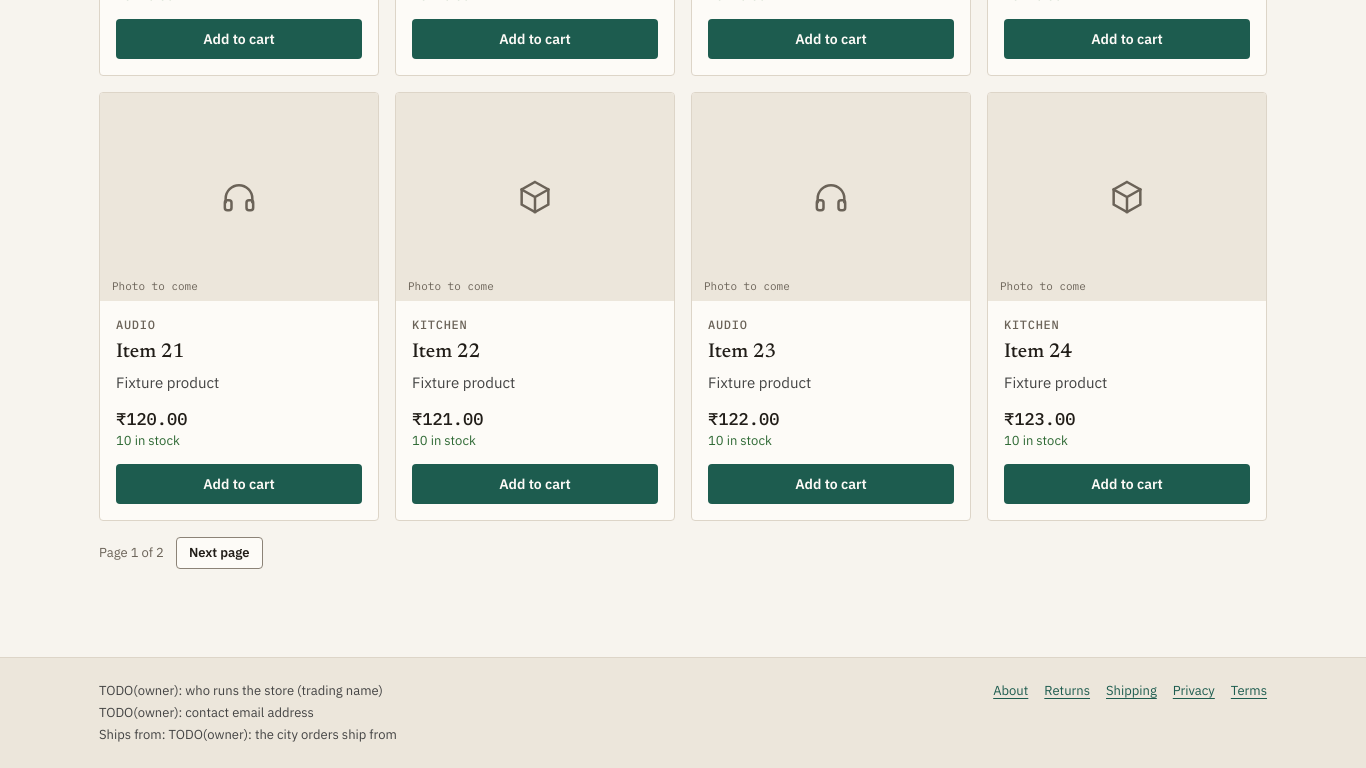
pagination › goes to the next page and back, keeping the page in the URL
(page scrolled)
Click the link "Next page" at (219, 553), box left=176, top=537, right=263, bottom=569
(page scrolled)
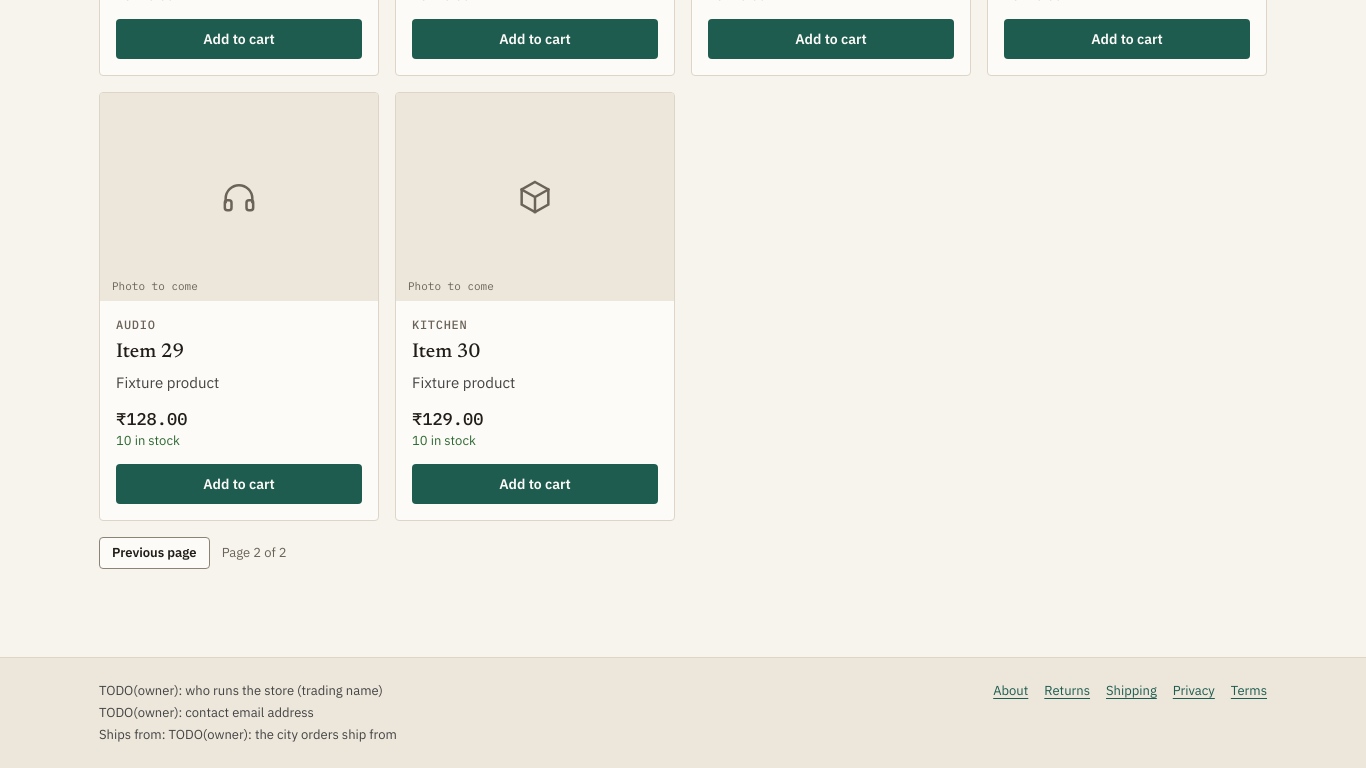
Expected: the link "Next page" is gone
Click the link "Previous page" at (154, 553), box left=99, top=537, right=210, bottom=569
(page scrolled)
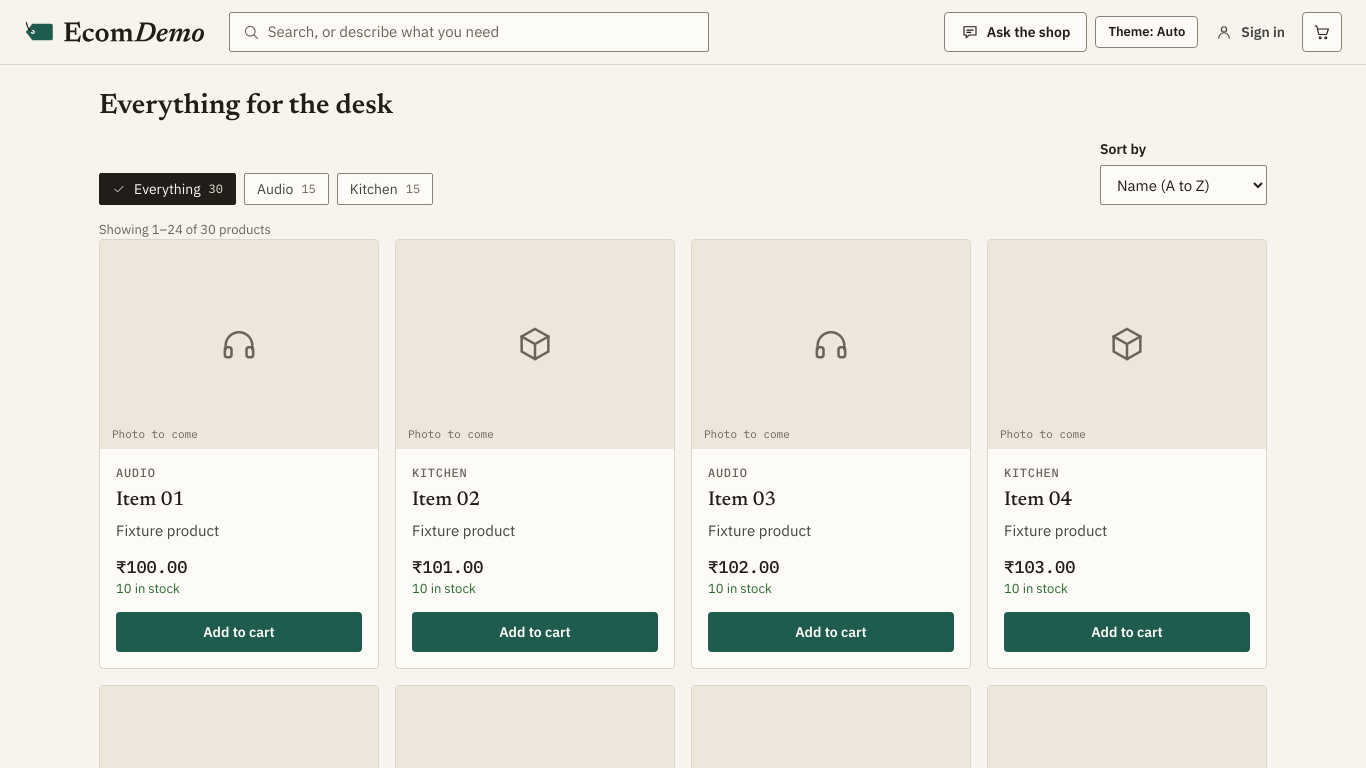
Expected: the text "Showing 1–24 of 30 products" is shown, left=99, top=221, right=271, bottom=238
